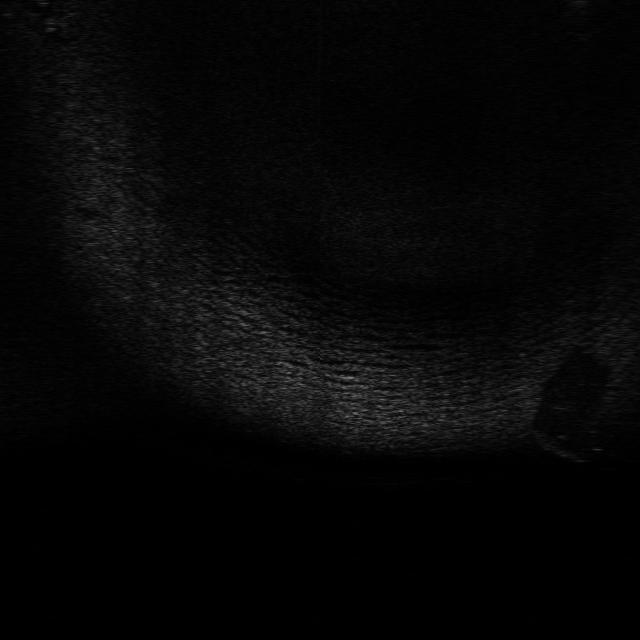cube: (538, 420, 614, 462)
